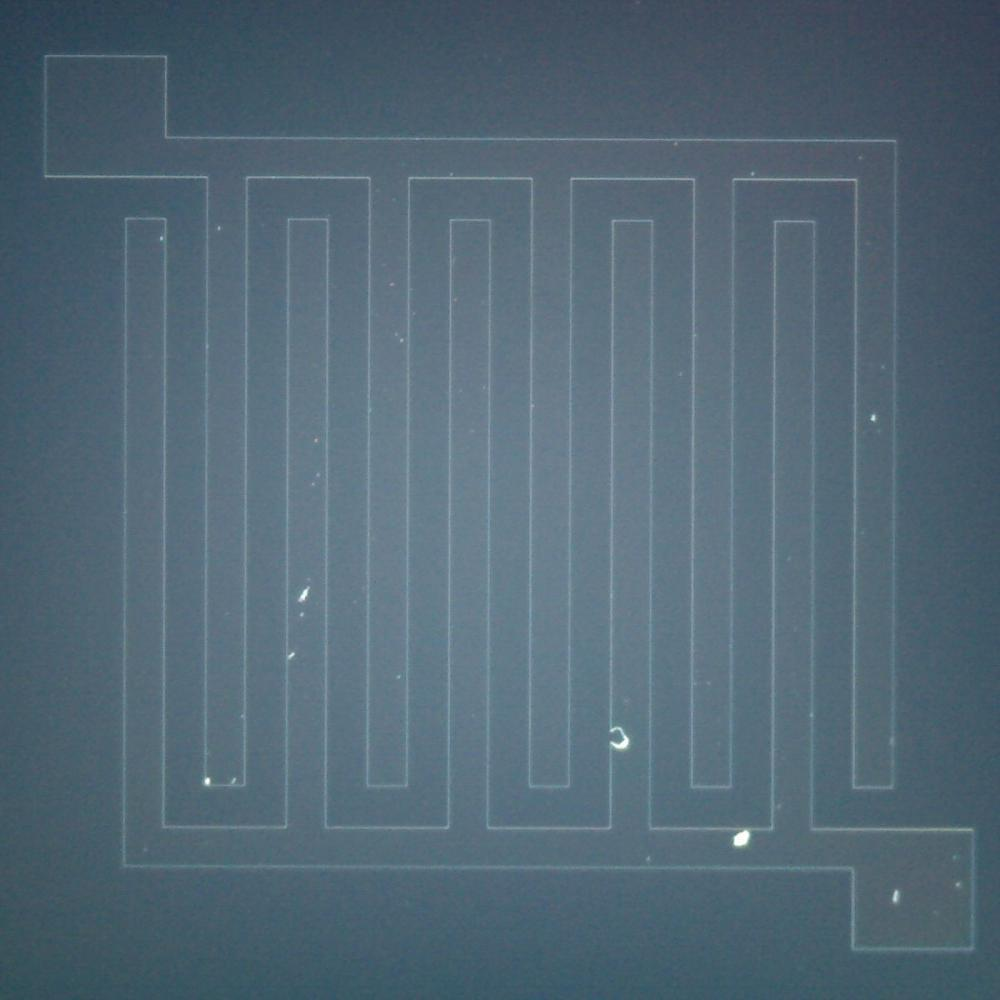dot: (193, 768, 222, 798), (862, 404, 887, 432)
spot: (606, 721, 636, 755), (729, 827, 756, 853)
